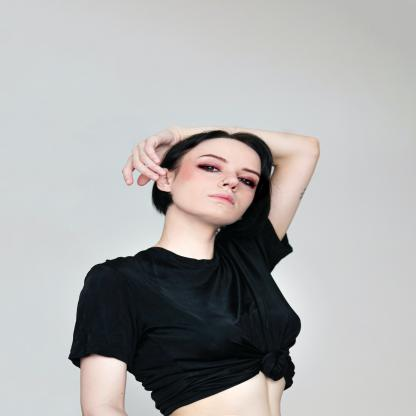Eye: (198, 162, 221, 173), (237, 176, 256, 189)
Mouth: (208, 192, 235, 206)
Nose: (218, 170, 239, 192)
